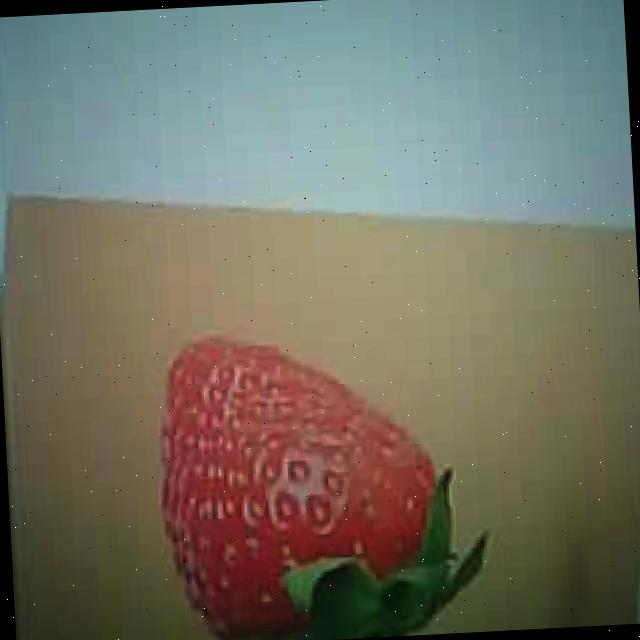strawberry: (154, 323, 454, 640)
